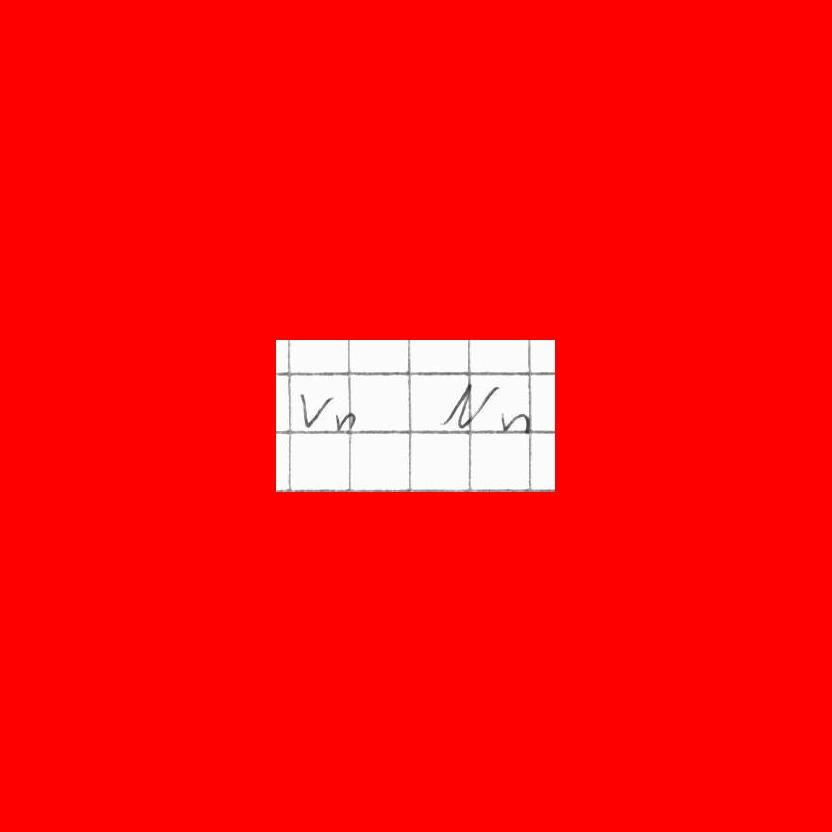Char: (440, 379, 497, 432), (298, 388, 330, 431), (498, 406, 532, 435), (334, 408, 357, 434)
